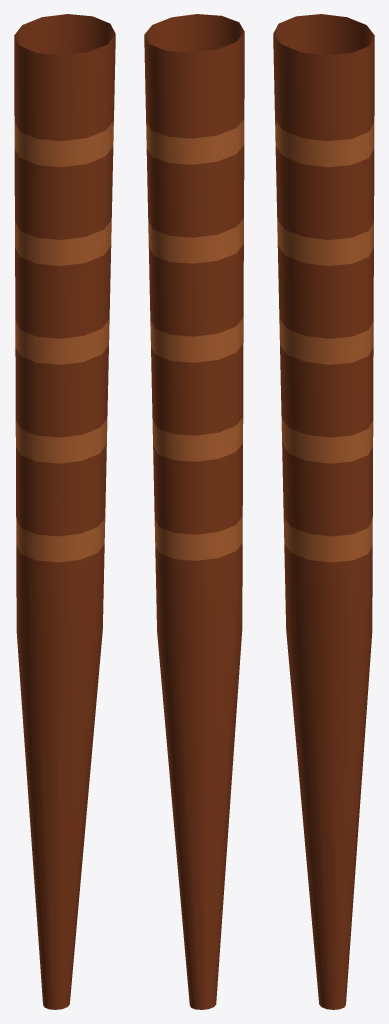
The model's file is sandalye_ayak (1).fbx.
3 renders of one model, left to right at view 1: azimuth 30°, elevation 25°; view 2: azimuth 210°, elevation 25°; view 3: azimuth 330°, elevation 25°, orthographic.
Visible parts, largest first — view 1: Cylinder.002; view 2: Cylinder.002; view 3: Cylinder.002.
Boxes of the visible parts, x1,y1,x2,y2 form: Cylinder.002: [14, 14, 115, 1009]; Cylinder.002: [144, 14, 244, 1009]; Cylinder.002: [273, 14, 374, 1009].
Bounding box in the file's own units: 7.03 × 72.28 × 6.42.
Materials: 1 (1 with a texture image).
